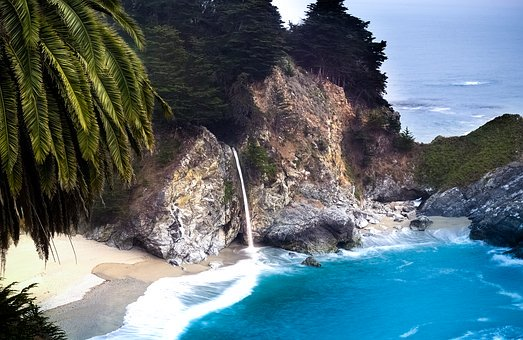mountain: (91, 1, 515, 236)
sea: (67, 236, 515, 340)
stone: (123, 75, 362, 242)
tree: (1, 5, 145, 330)
